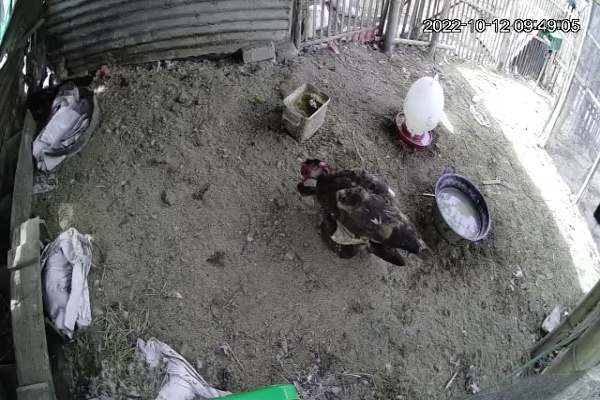Kawin: (284, 151, 424, 274)
